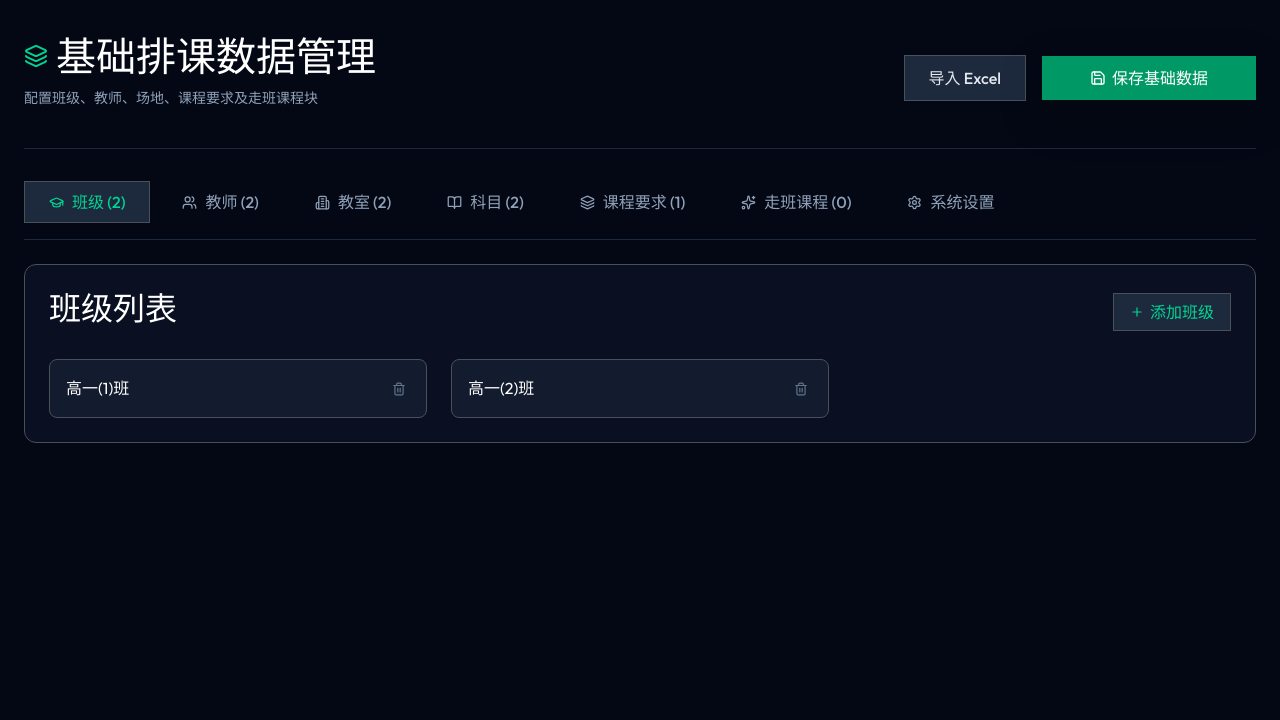
Test: CatalogPage › renders SplitCourseBlockEditor with non-empty default name, source classes and group controls upon adding a split block
What coordinates should you click on to do the following:
click the button "走班课程 (0)"
I would click on:
 (796, 202)
Its box is left=717, top=181, right=876, bottom=223.
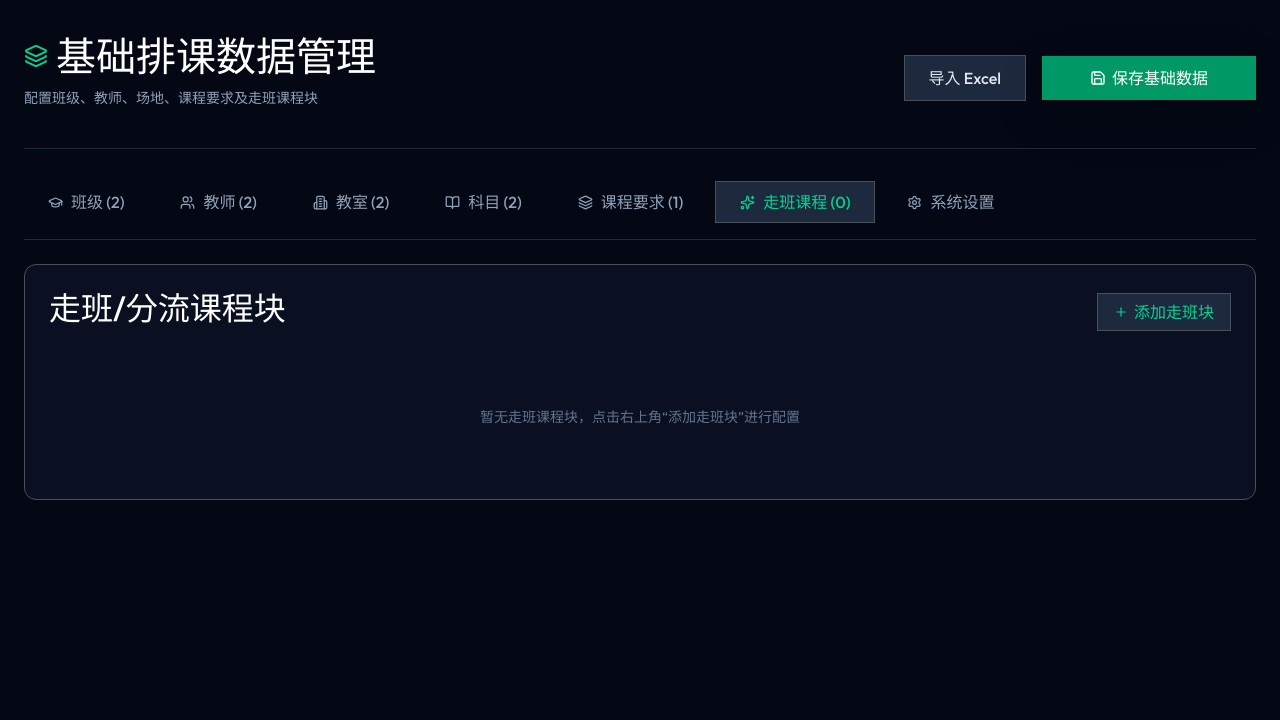
What coordinates should you click on to do the following:
click the button "添加走班块"
I would click on:
 (1164, 312)
Its box is left=1097, top=293, right=1231, bottom=331.
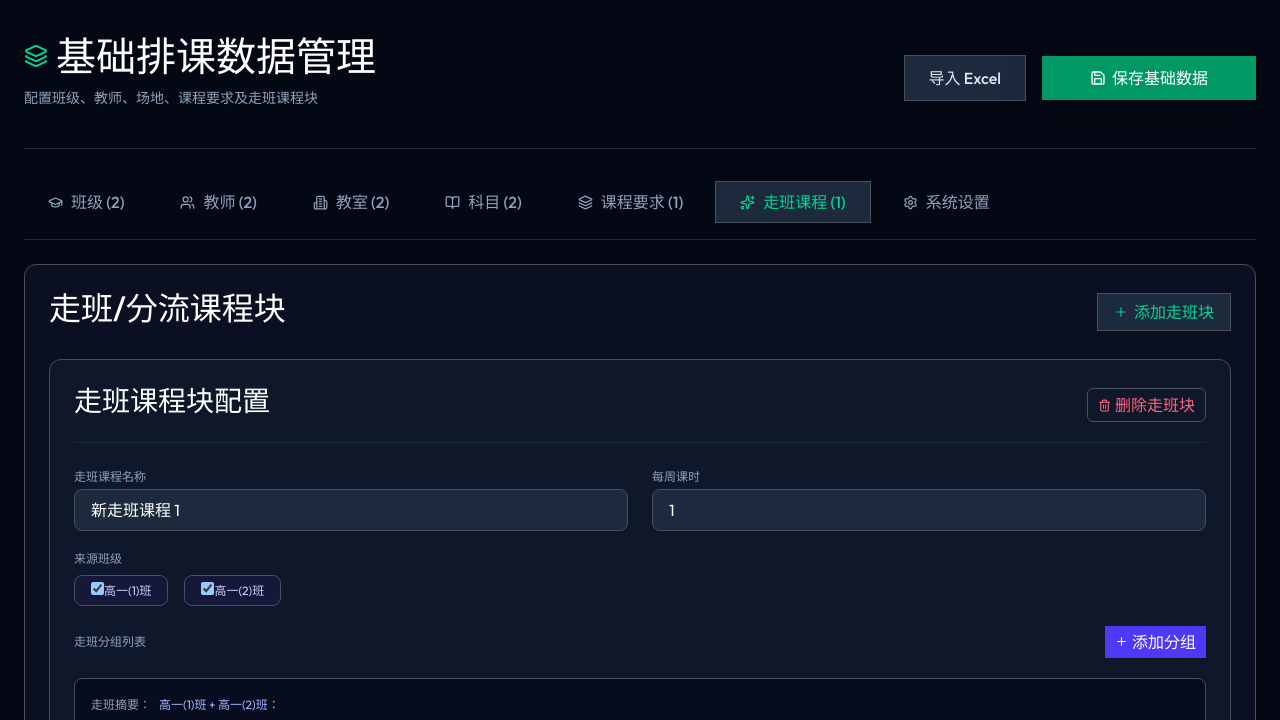
Check: the field labelled "走班课程名称" is shown, box left=74, top=489, right=628, bottom=531
Check: the element "来源班级 高一(1)班 高一(2)班" is shown, box left=74, top=551, right=281, bottom=606
Check: the button "添加分组" is shown, box left=1105, top=626, right=1206, bottom=658
